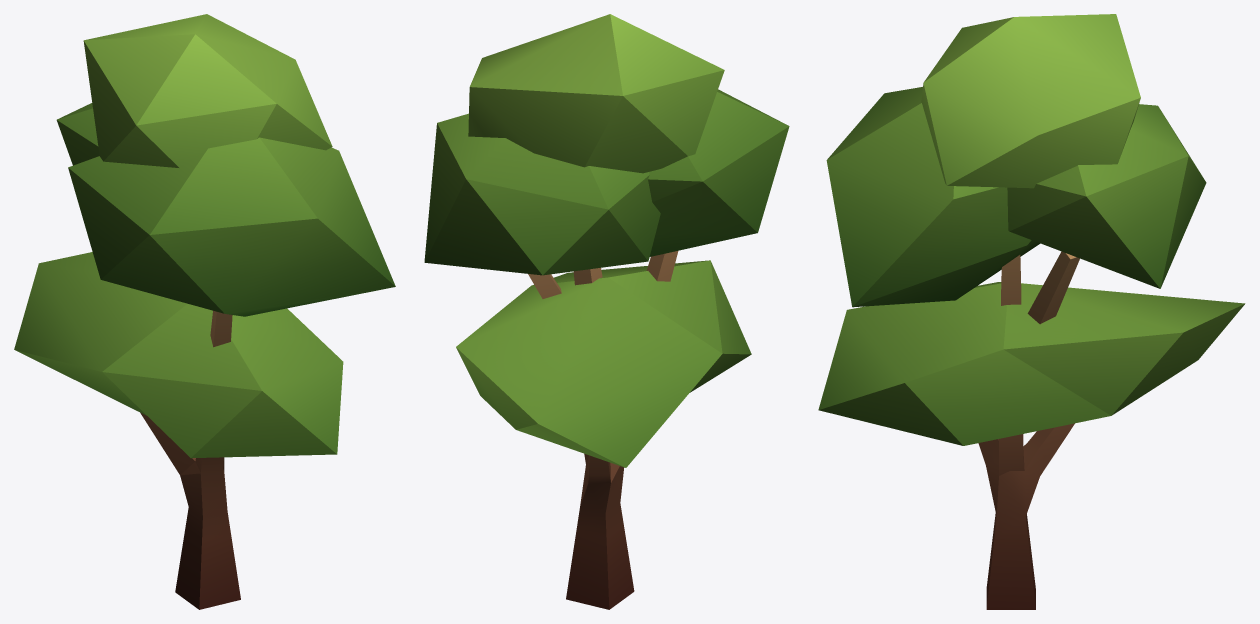
The model's file is oak3.fbx.
3 views of the same model, side by side, from view 1: azimuth 30°, elevation 25°; view 2: azimuth 150°, elevation 25°; view 3: azimuth 270°, elevation 25° (orthographic). The views are drawn at different scales.
Visible parts, largest first — view 1: Cube; view 2: Cube; view 3: Cube.
Boxes of the visible parts, <box> form: Cube: <box>14,14,395,609</box>; Cube: <box>424,14,789,609</box>; Cube: <box>818,14,1245,609</box>.
Size of the model in its own units: 608 by 1310 by 880.
2 materials, 2 textured.
